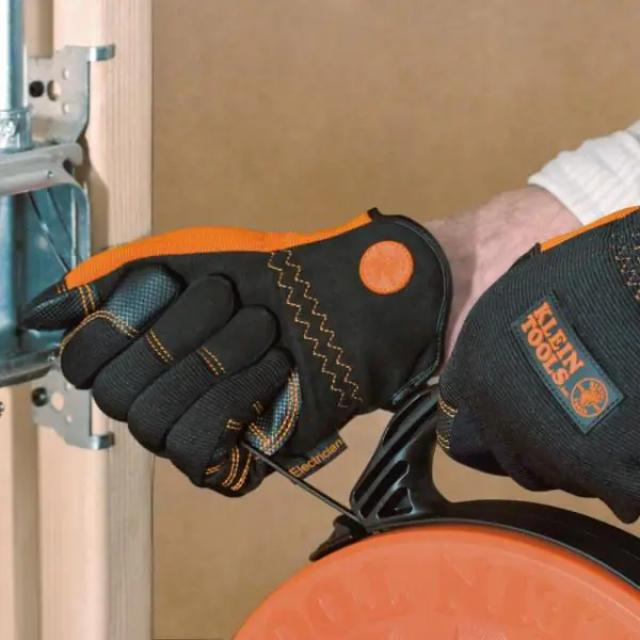gloves: (22, 205, 452, 499), (436, 203, 640, 526)
